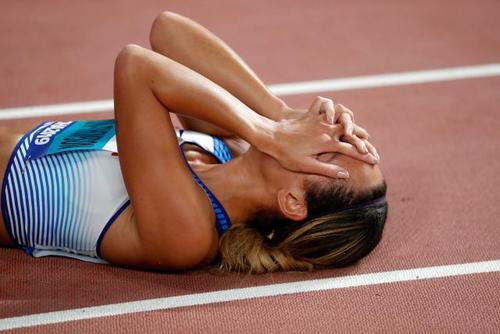down: (1, 5, 392, 279)
